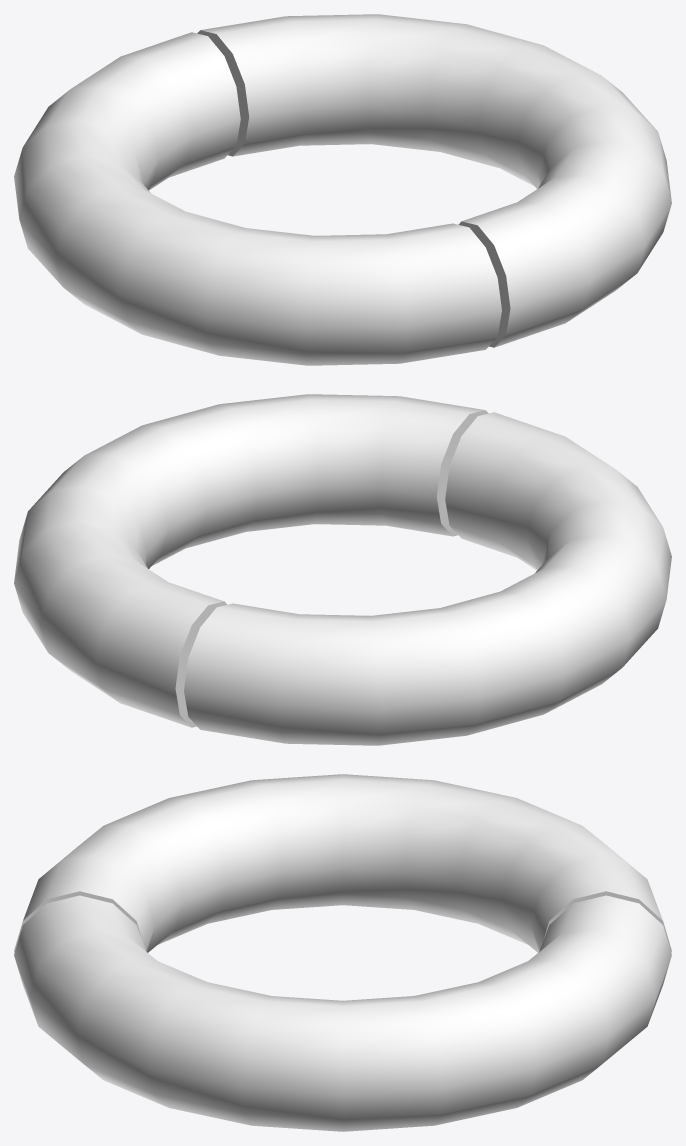
File: Bagel_halh.fbx
3 views of the same model, one above another, from view 1: azimuth 30°, elevation 25°; view 2: azimuth 150°, elevation 25°; view 3: azimuth 270°, elevation 25° (orthographic).
Visible parts, largest first — view 1: Bagel_halh_02, Bagel_halh_01; view 2: Bagel_halh_02, Bagel_halh_01; view 3: Bagel_halh_01, Bagel_halh_02.
Boxes of the visible parts, x1,y1,x2,y2 form: Bagel_halh_02: [14, 32, 501, 365]; Bagel_halh_01: [197, 14, 671, 347]; Bagel_halh_02: [184, 412, 671, 745]; Bagel_halh_01: [14, 394, 488, 727]; Bagel_halh_01: [14, 895, 671, 1131]; Bagel_halh_02: [14, 774, 671, 952].
Bounding box in the file's own units: 110 × 21.71 × 109.
